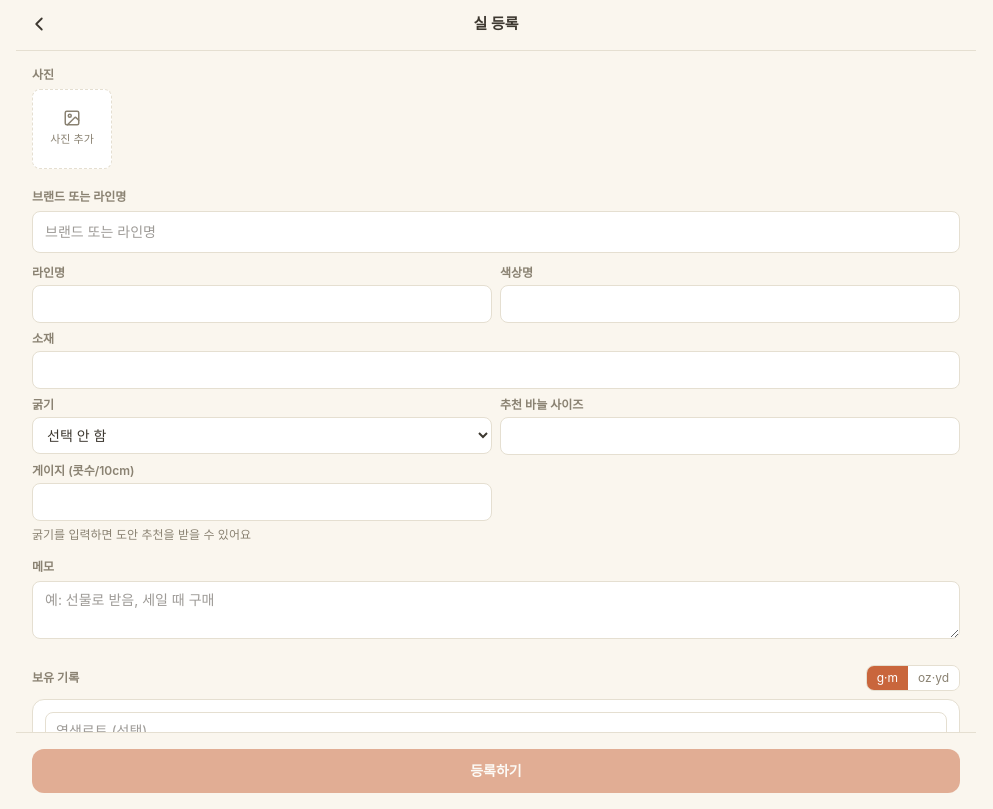
Test: YarnRegisterPage › Ravelry 검색이 안 되면 검색 불가 안내를 띄운다
The width and height of the screenshot is (993, 809).
Step 1. Type "mala" into the field with placeholder "브랜드 또는 라인명" → [496, 232], box top-left (32, 210), bottom-right (960, 252)
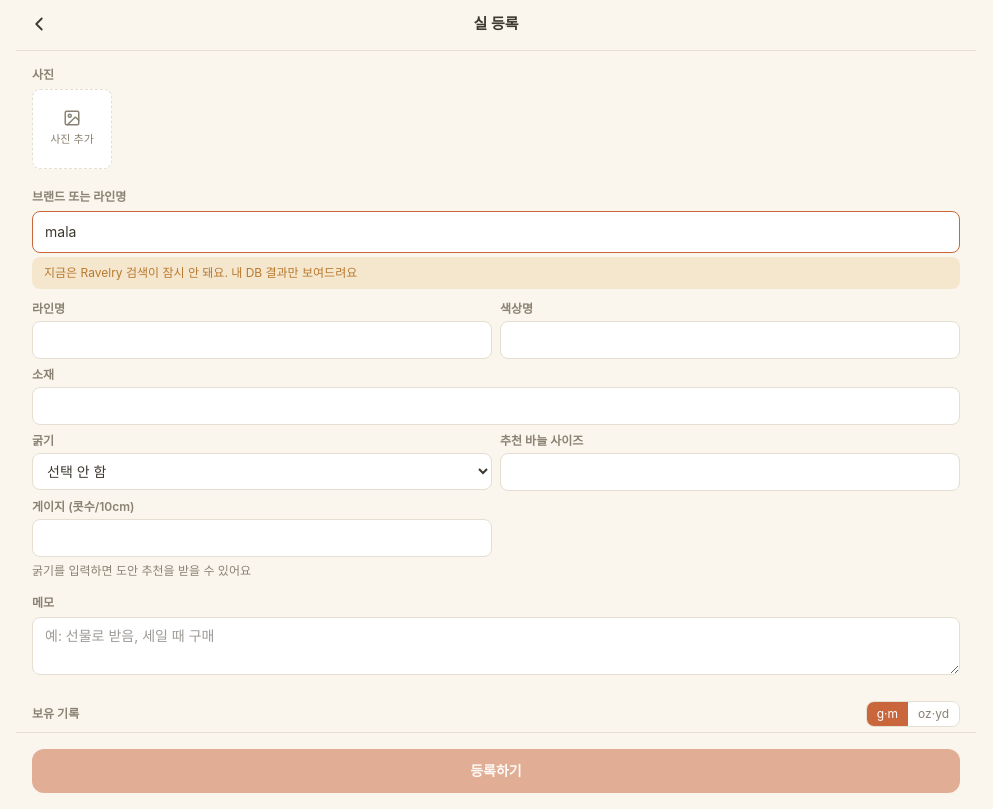
Expected: the text "지금은 Ravelry 검색이 잠시 안 돼요. 내 DB 결과만 보여드려요" is shown, top-left (32, 256), bottom-right (960, 288)
